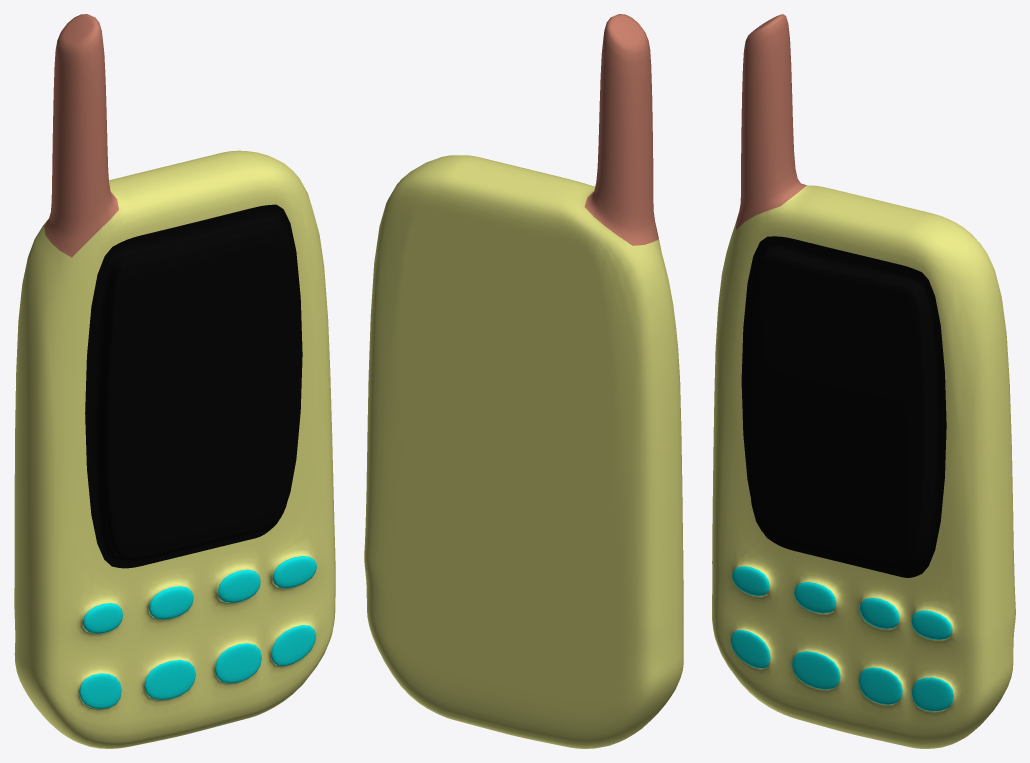
The model's file is Fbxp.fbx.
3 renders of one model, left to right at view 1: azimuth 30°, elevation 25°; view 2: azimuth 150°, elevation 25°; view 3: azimuth 330°, elevation 25°, orthographic. The views are drawn at different scales.
Visible parts, largest first — view 1: pPlane1; view 2: pPlane1; view 3: pPlane1.
Boxes of the visible parts, x1,y1,x2,y2 form: pPlane1: (14, 14, 335, 748); pPlane1: (364, 14, 683, 748); pPlane1: (712, 14, 1015, 748).
Bounding box in the file's own units: 7.16 × 16.79 × 2.05.
